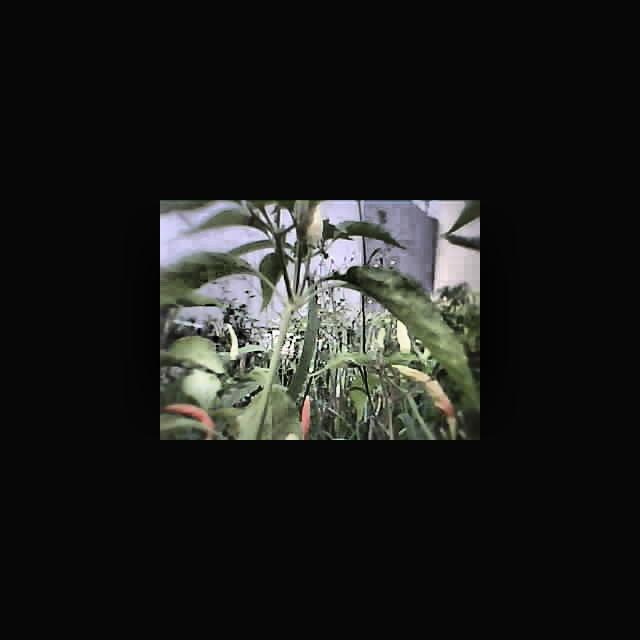Cabai: (400, 363, 464, 425), (280, 393, 326, 439), (171, 397, 219, 437), (223, 318, 246, 367)
